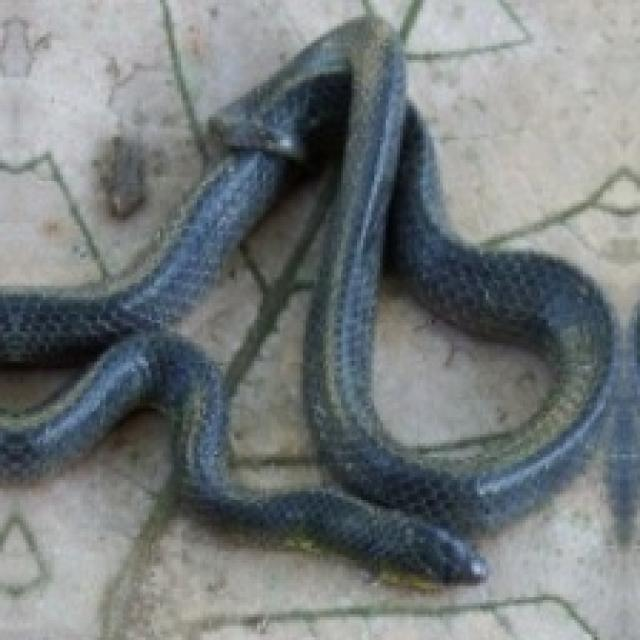gunthers philippine shrub snake: (0, 17, 614, 580), (166, 143, 343, 494), (369, 254, 557, 449)
